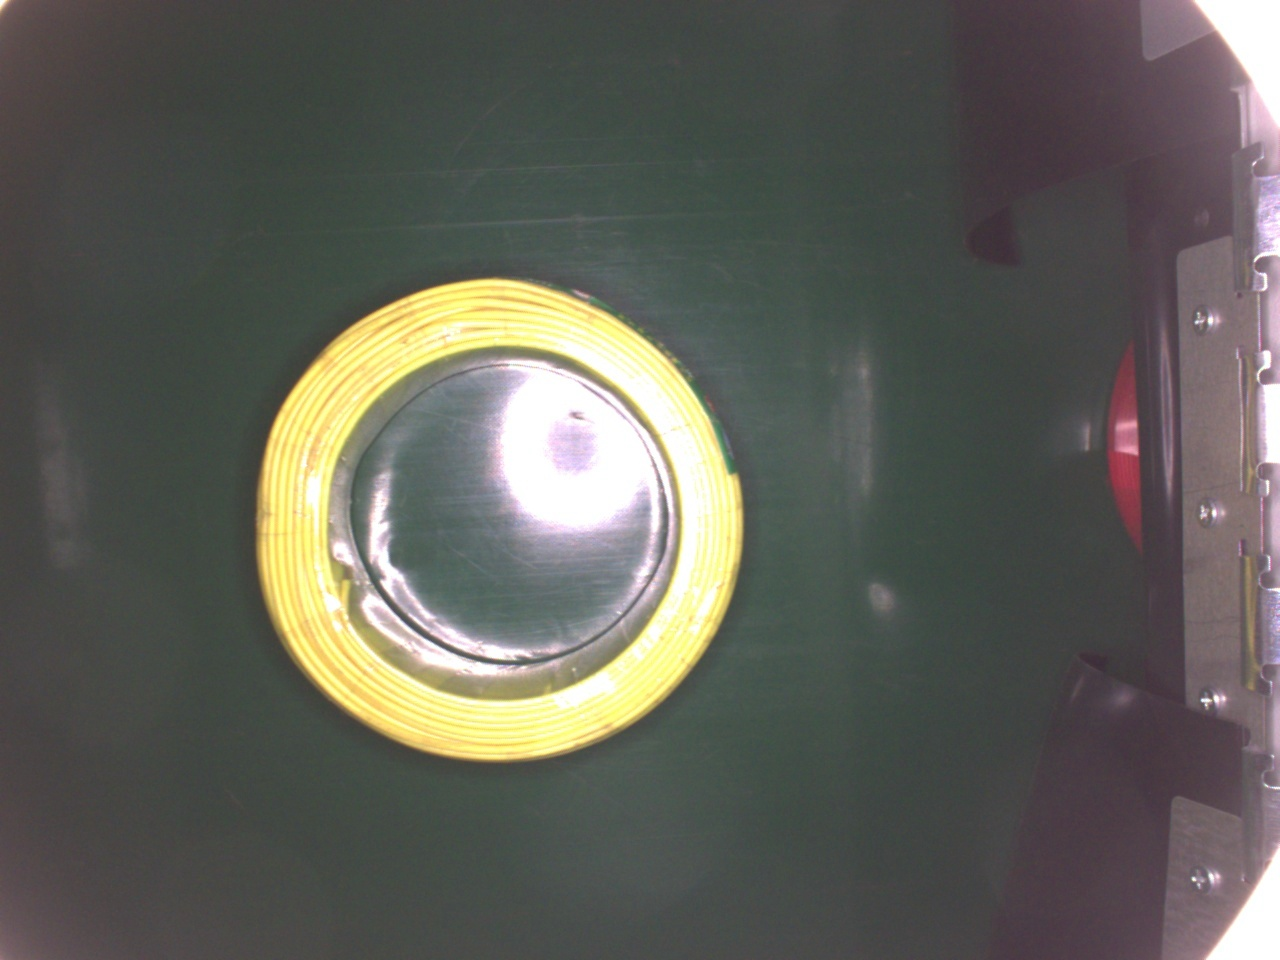yellow: (254, 278, 744, 765)
